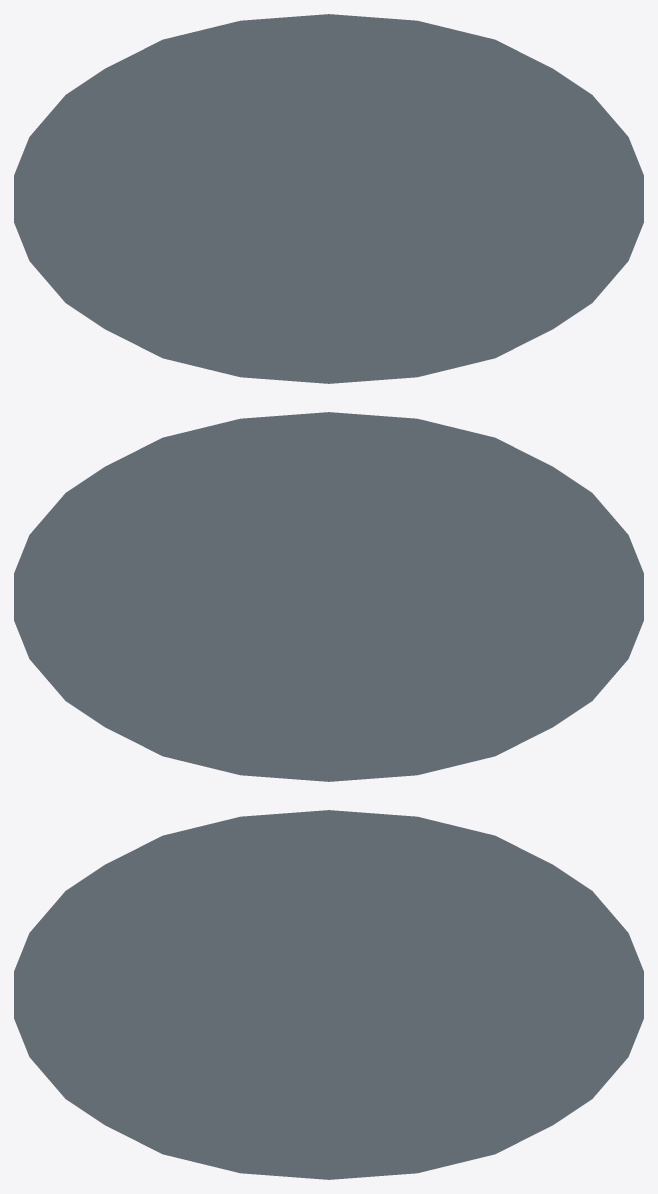
Rendered from dive.glb.
3 renders of one model, top to bottom at view 1: azimuth 30°, elevation 25°; view 2: azimuth 150°, elevation 25°; view 3: azimuth 270°, elevation 25°, orthographic.
Size of the model in its own units: 5.87 by 2.6 by 5.78.
